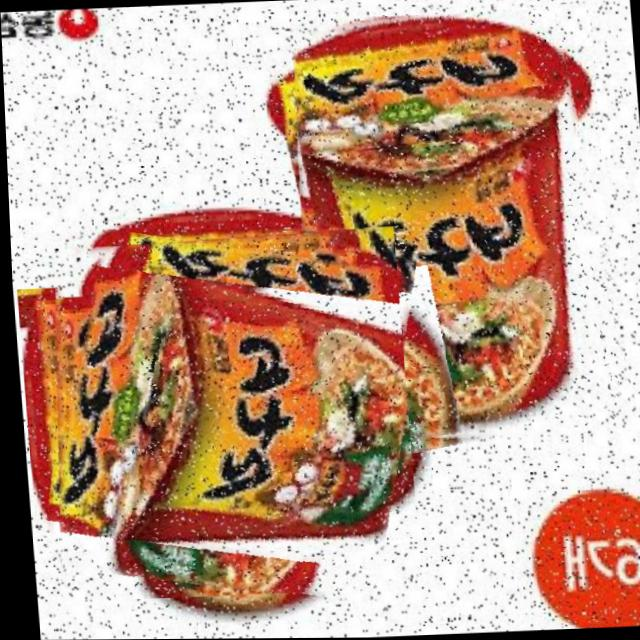Miscellaneous: (276, 7, 618, 455), (28, 225, 415, 601)
